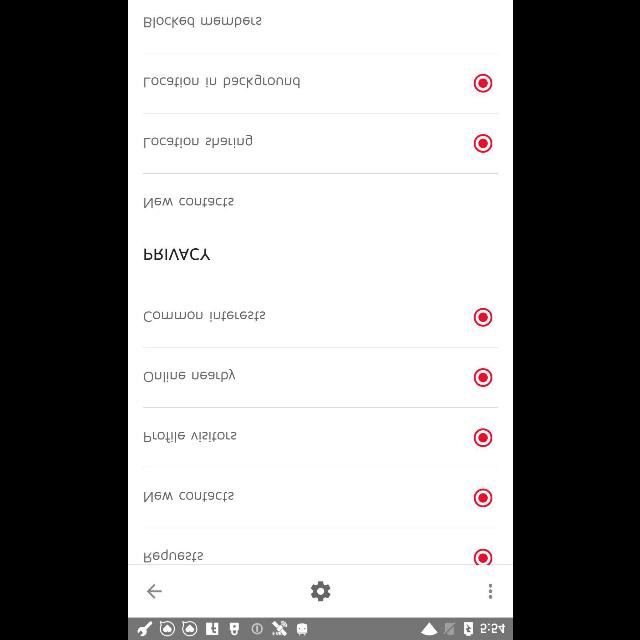checkbox: (472, 428, 492, 448), (472, 368, 492, 388), (472, 134, 492, 152), (473, 308, 492, 326), (473, 489, 491, 507), (473, 74, 491, 92), (472, 548, 492, 564)
icon: (310, 580, 330, 602), (146, 584, 162, 598), (488, 583, 492, 599)
text: (143, 75, 299, 88), (143, 135, 251, 149), (143, 310, 265, 322), (143, 17, 261, 28), (143, 369, 235, 383), (142, 431, 235, 443), (143, 492, 233, 502), (143, 198, 233, 208), (143, 248, 209, 260), (144, 550, 202, 562)
uppertaskbar: (128, 617, 512, 639)
